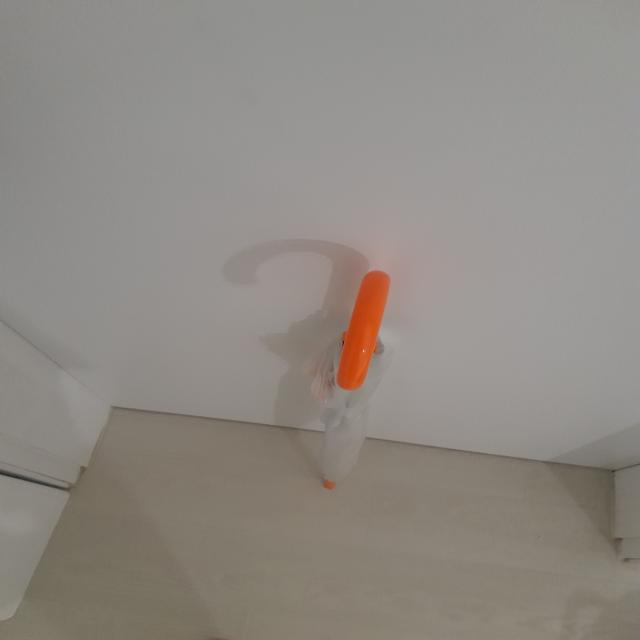umbrella: (308, 270, 394, 493)
